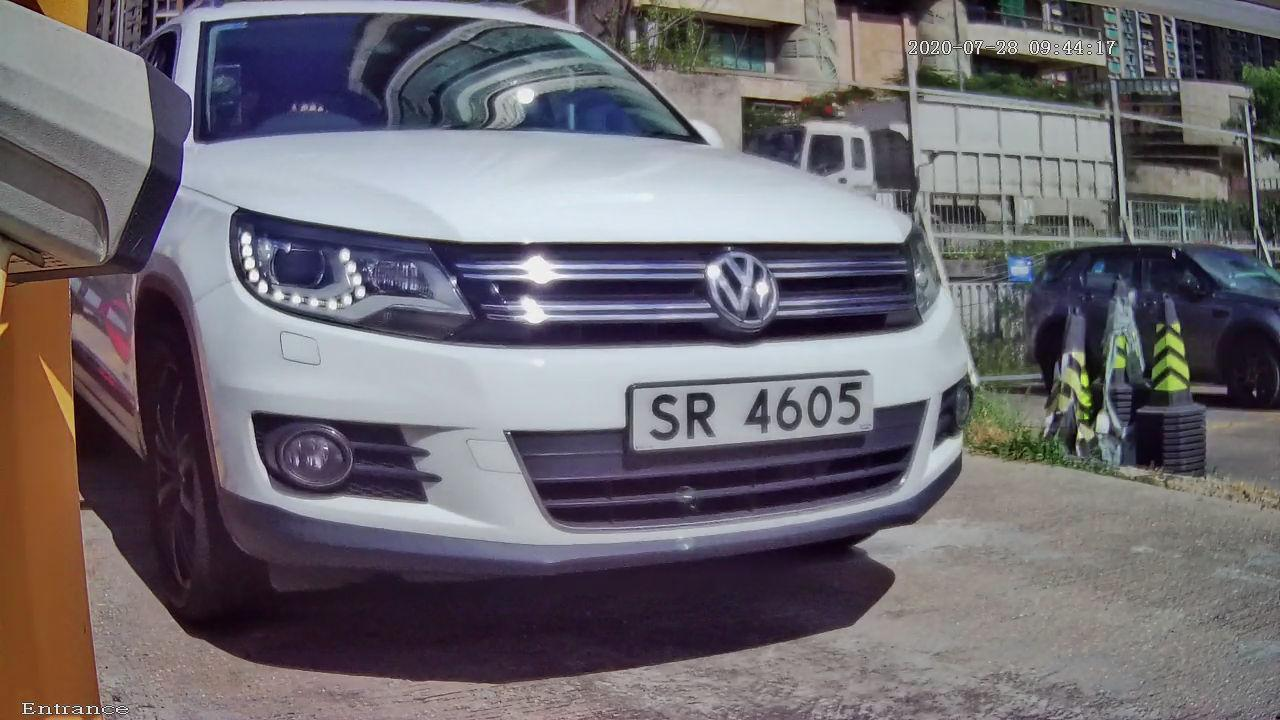privatecar: (58, 13, 1075, 659)
